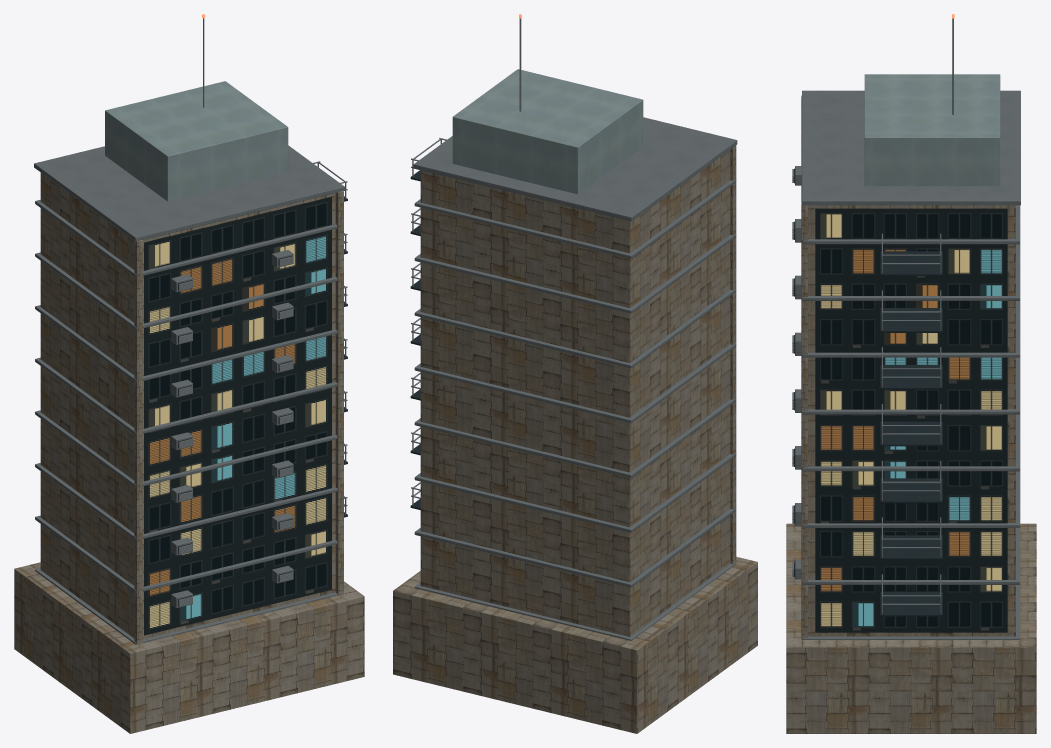
The model's file is NC_Building_tenement_LOD0.fbx.
3 renders of one model, left to right at view 1: azimuth 30°, elevation 25°; view 2: azimuth 150°, elevation 25°; view 3: azimuth 270°, elevation 25°, orthographic. The views are drawn at different scales.
Visible parts, largest first — view 1: NC_Building_tenement_LOD0; view 2: NC_Building_tenement_LOD0; view 3: NC_Building_tenement_LOD0.
Boxes of the visible parts, x1,y1,x2,y2 form: NC_Building_tenement_LOD0: (14,14,364,733); NC_Building_tenement_LOD0: (393,14,757,733); NC_Building_tenement_LOD0: (786,14,1036,733).
Size of the model in its own units: 1560 by 3570 by 1200.
